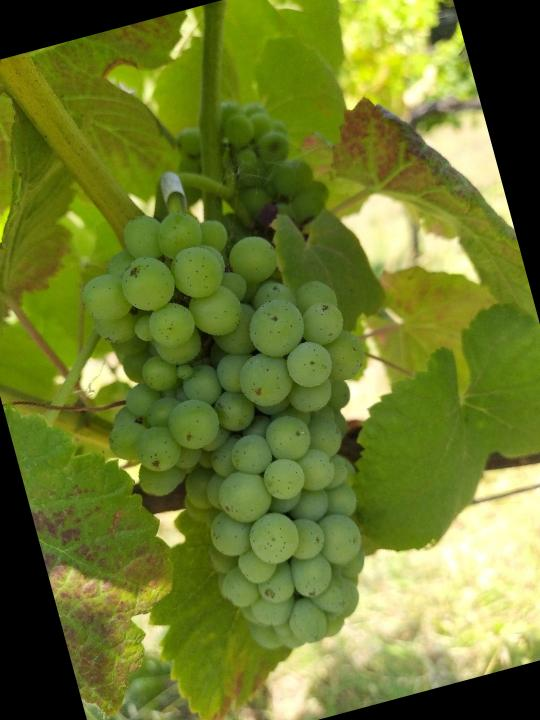grape: (49, 171, 422, 684)
